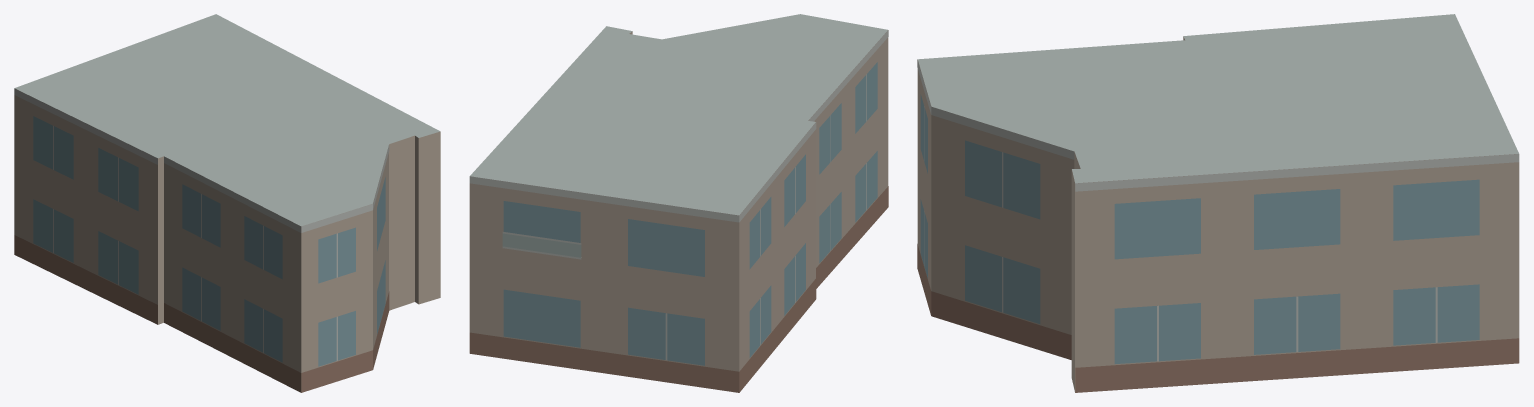
File: survey-upis-32903170.glb
3 renders of one model, left to right at view 1: azimuth 30°, elevation 25°; view 2: azimuth 150°, elevation 25°; view 3: azimuth 270°, elevation 25°, orthographic. The views are drawn at different scales.
Visible parts, largest first — view 1: survey-upis-32903170.tmp; view 2: survey-upis-32903170.tmp; view 3: survey-upis-32903170.tmp.
Part boxes in pixels (x1,y1,x2,y2): survey-upis-32903170.tmp: [14, 14, 440, 392]; survey-upis-32903170.tmp: [469, 14, 888, 392]; survey-upis-32903170.tmp: [917, 14, 1519, 392].
Bounding box in the file's own units: 10.58 × 6.1 × 15.88.
